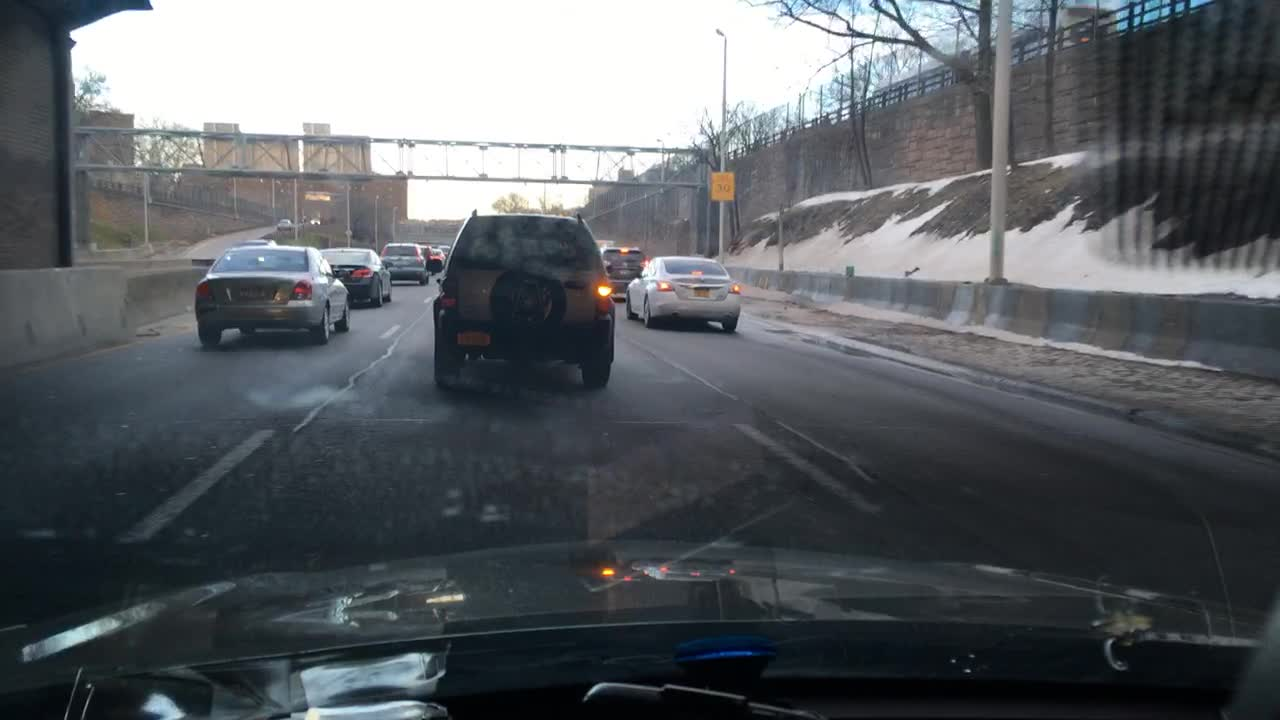car: (429, 207, 618, 380), (192, 238, 349, 345), (626, 254, 742, 327), (318, 245, 395, 304), (598, 242, 645, 300), (380, 239, 437, 284), (229, 236, 275, 248), (429, 248, 444, 270), (275, 218, 295, 230), (438, 242, 452, 254), (309, 213, 321, 225)
traffic sign: (708, 169, 733, 200), (305, 193, 326, 199)
